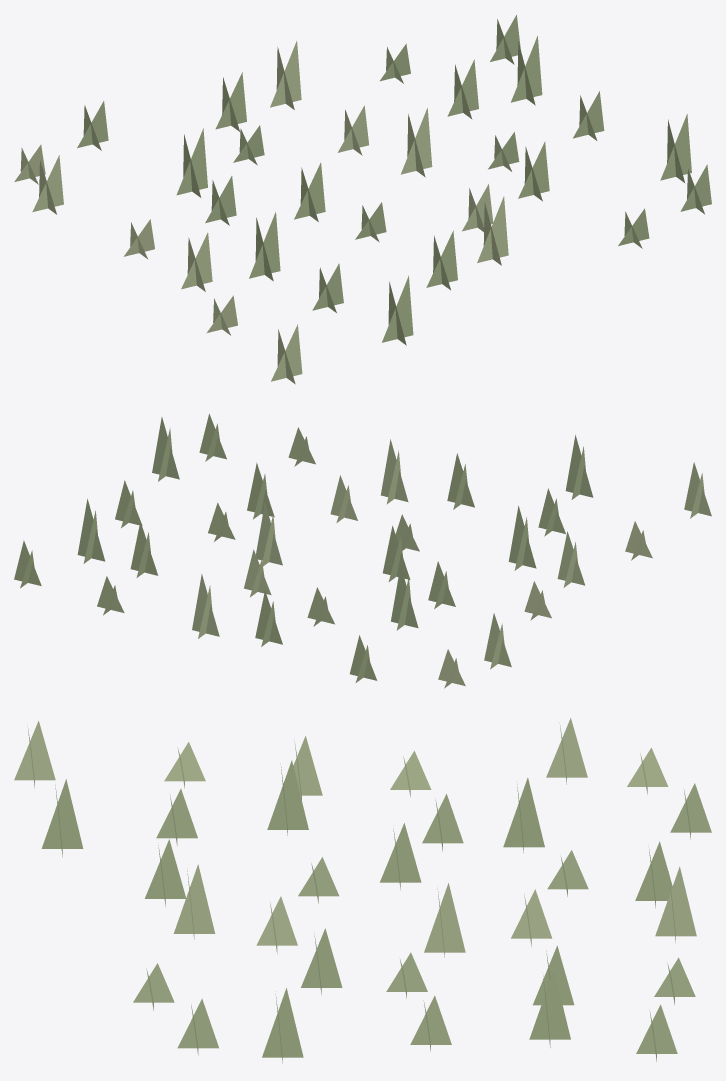
File: meadow-grass-patch.glb
The picture shows the model from 3 angles, top to bottom: view 1: azimuth 30°, elevation 25°; view 2: azimuth 150°, elevation 25°; view 3: azimuth 270°, elevation 25°; orthographic projection. The views are drawn at different scales.
Parts seen in each view (by area): view 1: meadow-grass-patch; view 2: meadow-grass-patch; view 3: meadow-grass-patch.
Part boxes in pixels (bbox=[...]): meadow-grass-patch: bbox=[14, 15, 711, 384]; meadow-grass-patch: bbox=[14, 413, 711, 688]; meadow-grass-patch: bbox=[14, 718, 711, 1063].
Bounding box in the file's own units: 3.71 × 0.425 × 3.67.
